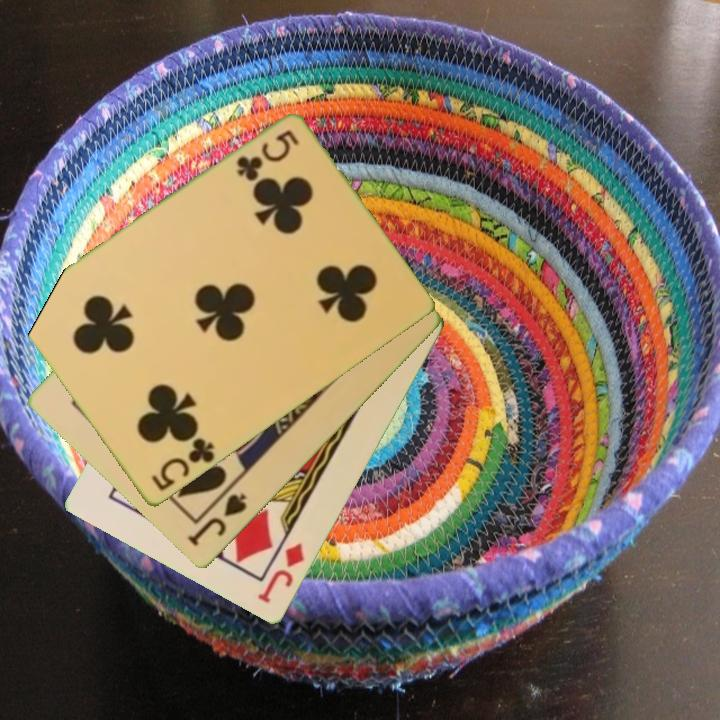5c: (147, 434, 218, 494), (232, 126, 302, 185)
Jd: (254, 540, 308, 607)
Js: (184, 489, 250, 550)
